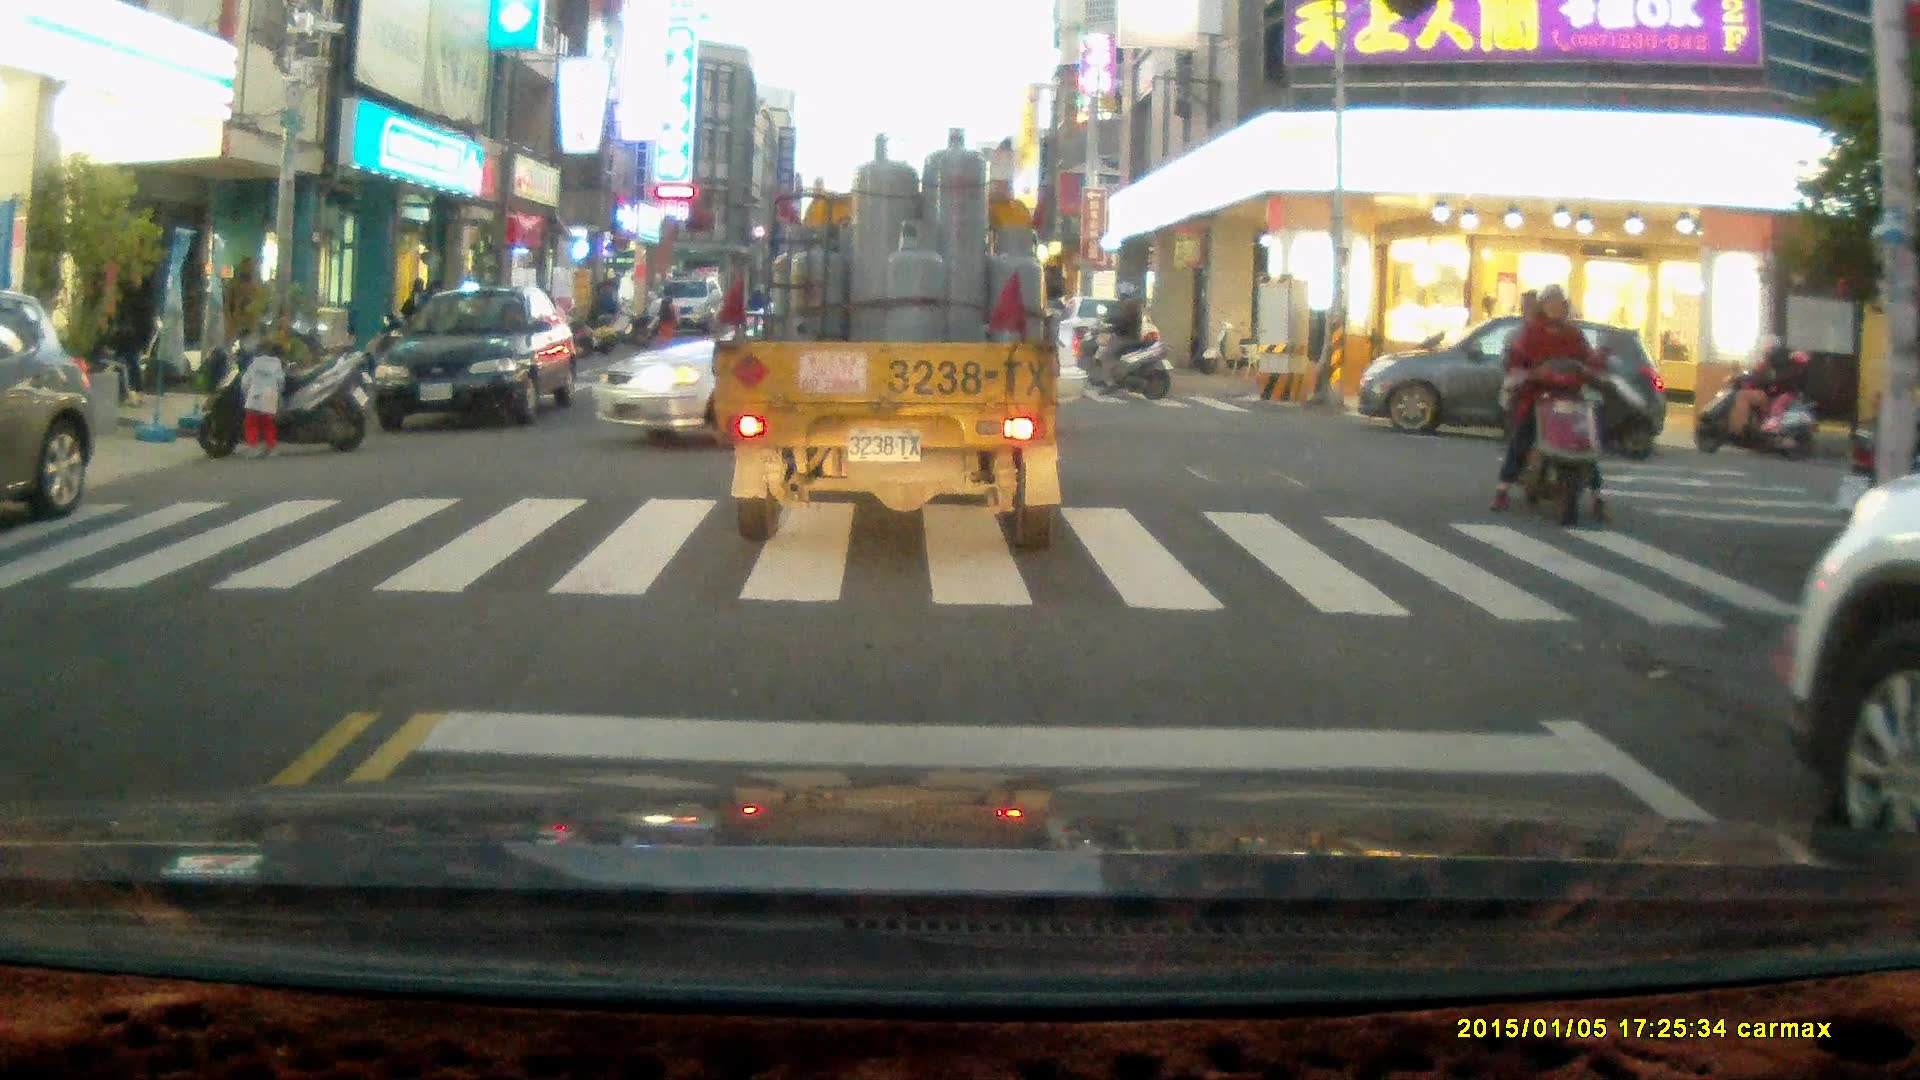pedestrian: (238, 339, 290, 462), (595, 277, 622, 339), (656, 285, 680, 343)
rider: (1488, 285, 1608, 528), (1509, 305, 1652, 457), (1695, 335, 1812, 462), (1078, 283, 1173, 404)
vehicle: (712, 125, 1064, 544), (590, 284, 1079, 444), (1790, 476, 1920, 881), (1351, 315, 1662, 466), (365, 288, 580, 432), (651, 278, 728, 334)
